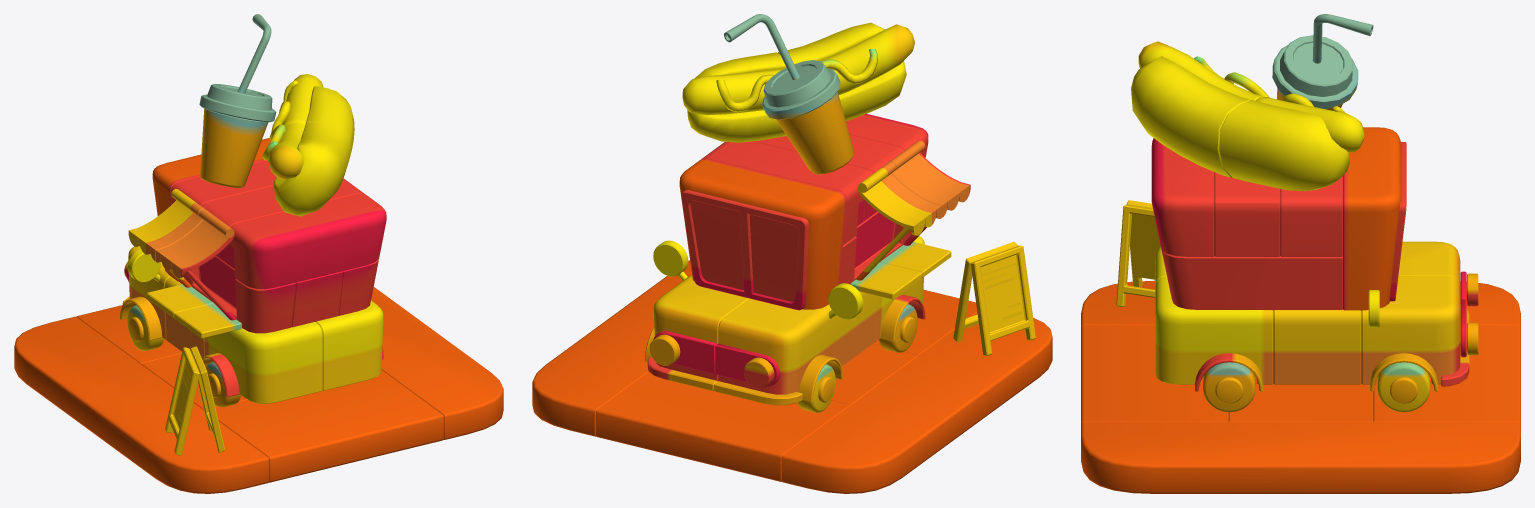
File: level_164.fbx
3 views of the same model, side by side, from view 1: azimuth 30°, elevation 25°; view 2: azimuth 150°, elevation 25°; view 3: azimuth 270°, elevation 25° (orthographic). The views are drawn at different scales.
Parts seen in each view (by area): view 1: Cube_L3_1.002, Cube_L3_5.002, Cube_L2_26.001, Cube_L3_2.002, Cube_L2_24.002, Cube_L1_3.003, Cube_L2_23.002, Cube_L2_17.003, Cube_L1_1.003, Cube_L1_2.003, Cube_L3_4.002, Cube_L2_21.003 (+16 smaller); view 2: Cube_L3_1.002, Cube_L2_8.003, Cube_L3.002, Cube_L3_2.002, Cube_L2_4.003, Cube_L1_3.003, Cube_L1_2.003, Cube_L3_4.002, Cube_L2_5.003, Cube_L2_13.003, Cube_L1.003, Cube_L1_1.003 (+19 smaller); view 3: Cube_L3_2.002, Cube_L1_2.003, Cube_L2_8.003, Cube_L1_3.003, Cube_L3_5.002, Cube_L2_15.003, Cube_L2_5.003, Cube_L2_23.002, Cube_L3.002, Cube_L2_12.003, Cube_L2_26.001, Cube_L1.003 (+8 smaller).
Boxes of the visible parts, x1=… form: Cube_L3_1.002: x1=14, y1=316, x2=268, y2=493; Cube_L3_5.002: x1=215, y1=370, x2=443, y2=482; Cube_L2_26.001: x1=229, y1=193, x2=386, y2=289; Cube_L3_2.002: x1=371, y1=287, x2=503, y2=439; Cube_L2_24.002: x1=202, y1=322, x2=322, y2=403; Cube_L1_3.003: x1=262, y1=122, x2=350, y2=216; Cube_L2_23.002: x1=315, y1=300, x2=383, y2=390; Cube_L2_17.003: x1=179, y1=256, x2=295, y2=333; Cube_L1_1.003: x1=200, y1=108, x2=268, y2=187; Cube_L1_2.003: x1=271, y1=74, x2=354, y2=154; Cube_L3_4.002: x1=165, y1=346, x2=224, y2=455; Cube_L2_21.003: x1=156, y1=209, x2=236, y2=320; Cube_L3_1.002: x1=781, y1=313, x2=1052, y2=493; Cube_L2_8.003: x1=679, y1=158, x2=846, y2=310; Cube_L3.002: x1=596, y1=372, x2=849, y2=481; Cube_L3_2.002: x1=532, y1=260, x2=691, y2=436; Cube_L2_4.003: x1=714, y1=298, x2=843, y2=405; Cube_L1_3.003: x1=778, y1=22, x2=914, y2=121; Cube_L1_2.003: x1=682, y1=52, x2=786, y2=142; Cube_L3_4.002: x1=953, y1=241, x2=1035, y2=355; Cube_L2_5.003: x1=644, y1=274, x2=749, y2=390; Cube_L2_13.003: x1=701, y1=141, x2=873, y2=245; Cube_L1.003: x1=724, y1=14, x2=840, y2=119; Cube_L1_1.003: x1=776, y1=91, x2=854, y2=174; Cube_L3_2.002: x1=1081, y1=421, x2=1520, y2=493; Cube_L1_2.003: x1=1219, y1=93, x2=1364, y2=191; Cube_L2_8.003: x1=1343, y1=127, x2=1406, y2=310; Cube_L1_3.003: x1=1131, y1=41, x2=1269, y2=177; Cube_L3_5.002: x1=1081, y1=325, x2=1228, y2=423; Cube_L2_15.003: x1=1161, y1=247, x2=1342, y2=310; Cube_L2_5.003: x1=1361, y1=276, x2=1469, y2=391; Cube_L2_23.002: x1=1155, y1=276, x2=1273, y2=391; Cube_L3.002: x1=1373, y1=325, x2=1520, y2=423; Cube_L2_12.003: x1=1273, y1=309, x2=1361, y2=384; Cube_L2_26.001: x1=1151, y1=138, x2=1214, y2=256; Cube_L1.003: x1=1272, y1=14, x2=1373, y2=108.
Size of the model in its own units: 13.48 by 13.48 by 13.48.
